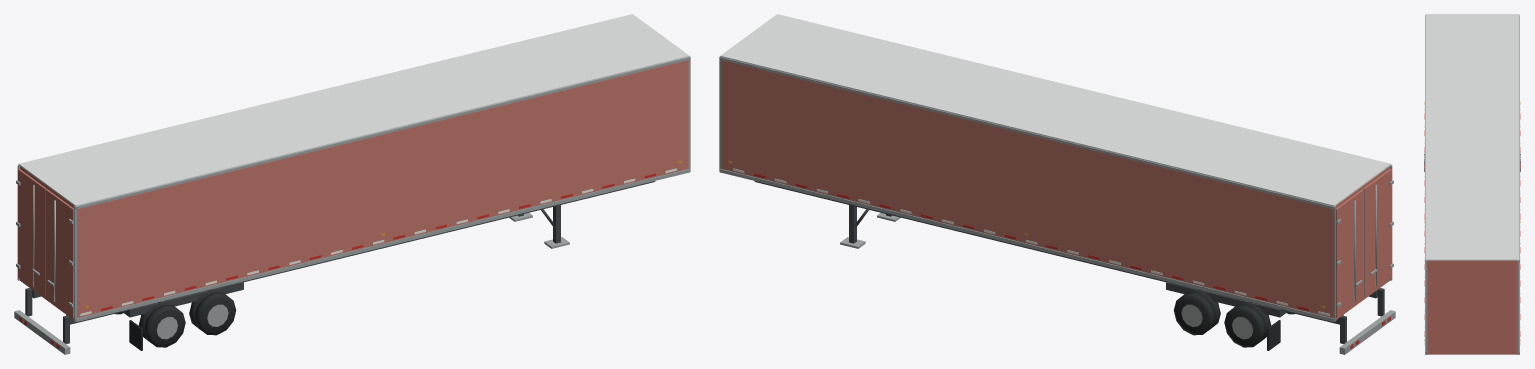
The model's file is SM_MPR3_Trailer_Coral_LOD1.fbx.
3 renders of one model, left to right at view 1: azimuth 30°, elevation 25°; view 2: azimuth 150°, elevation 25°; view 3: azimuth 270°, elevation 25°, orthographic. The views are drawn at different scales.
Parts seen in each view (by area): view 1: SM_MPR3_Trailer_Coral_LOD1; view 2: SM_MPR3_Trailer_Coral_LOD1; view 3: SM_MPR3_Trailer_Coral_LOD1.
Part boxes in pixels (left/top/right/bottom): SM_MPR3_Trailer_Coral_LOD1: left=14, top=14, right=690, bottom=354; SM_MPR3_Trailer_Coral_LOD1: left=719, top=14, right=1395, bottom=354; SM_MPR3_Trailer_Coral_LOD1: left=1424, top=14, right=1520, bottom=354.
Size of the model in its own units: 1639 by 267 by 417.
